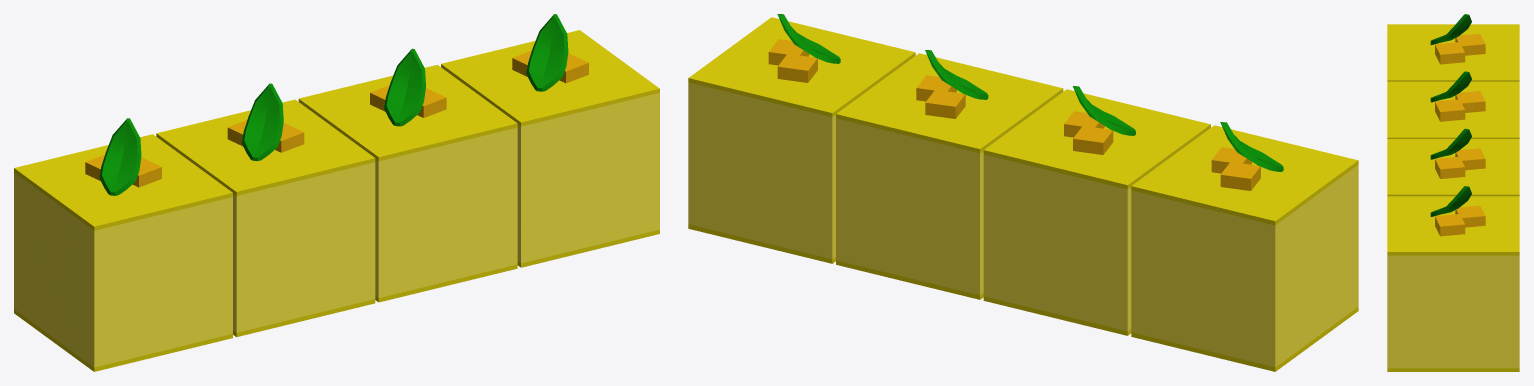
File: cake_yellow_4.fbx
3 views of the same model, side by side, from view 1: azimuth 30°, elevation 25°; view 2: azimuth 150°, elevation 25°; view 3: azimuth 270°, elevation 25° (orthographic). The views are drawn at different scales.
Visible parts, largest first — view 1: 立方体.009; view 2: 立方体.009; view 3: 立方体.009.
Boxes of the visible parts, x1=… form: 立方体.009: x1=14, y1=14, x2=659, y2=371; 立方体.009: x1=688, y1=14, x2=1358, y2=371; 立方体.009: x1=1387, y1=14, x2=1519, y2=371.
Bounding box in the file's own units: 59.5 × 19.82 × 14.6.
